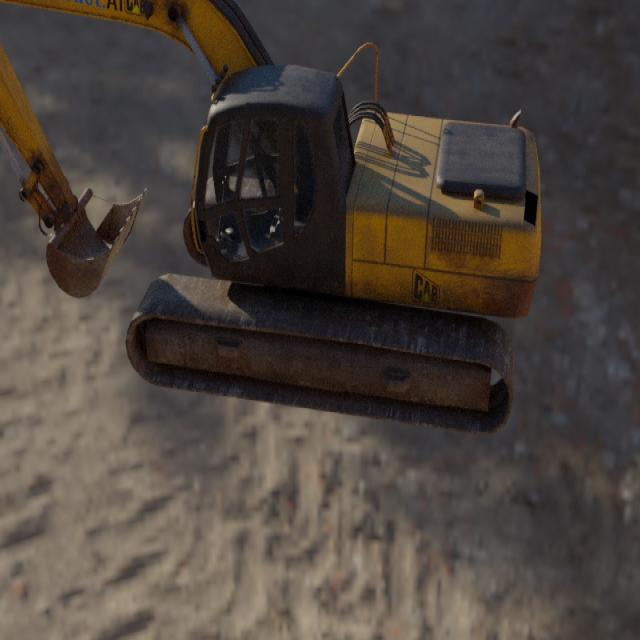excavator: (0, 0, 542, 436)
